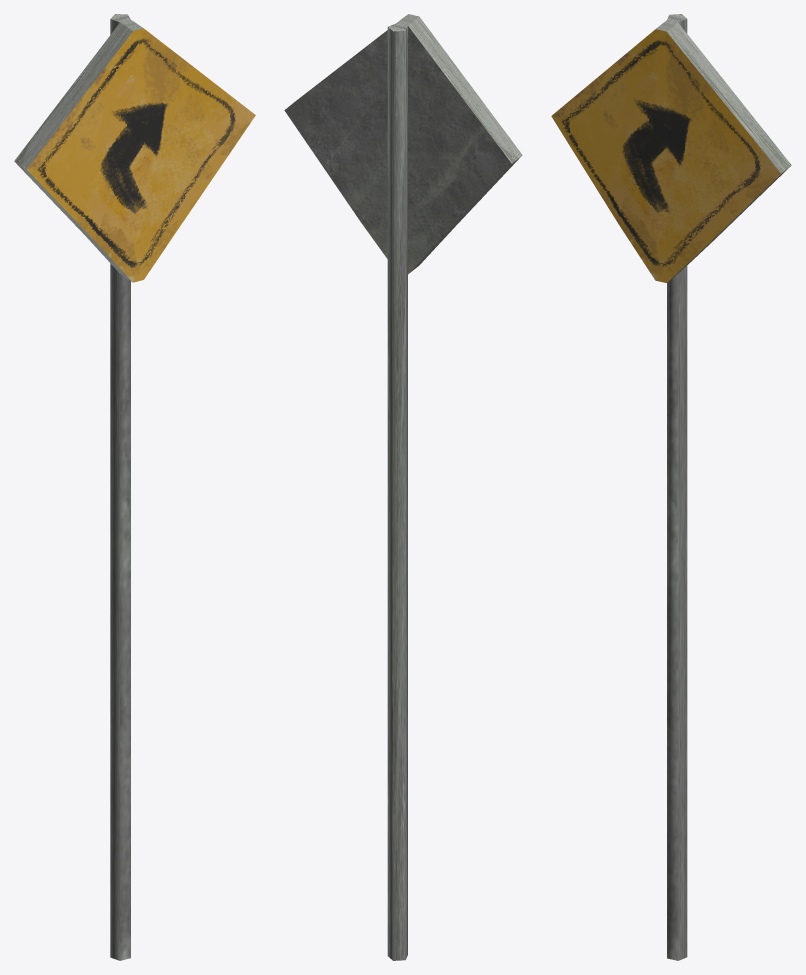
File: sign.FBX
3 views of the same model, side by side, from view 1: azimuth 30°, elevation 25°; view 2: azimuth 150°, elevation 25°; view 3: azimuth 330°, elevation 25° (orthographic).
Parts seen in each view (by area): view 1: Cylinder002; view 2: Cylinder002; view 3: Cylinder002.
Boxes of the visible parts, <box> form: Cylinder002: <box>14,14,255,960</box>; Cylinder002: <box>284,14,522,960</box>; Cylinder002: <box>551,14,791,960</box>.
Bounding box in the file's own units: 27.92 × 109 × 4.8.
